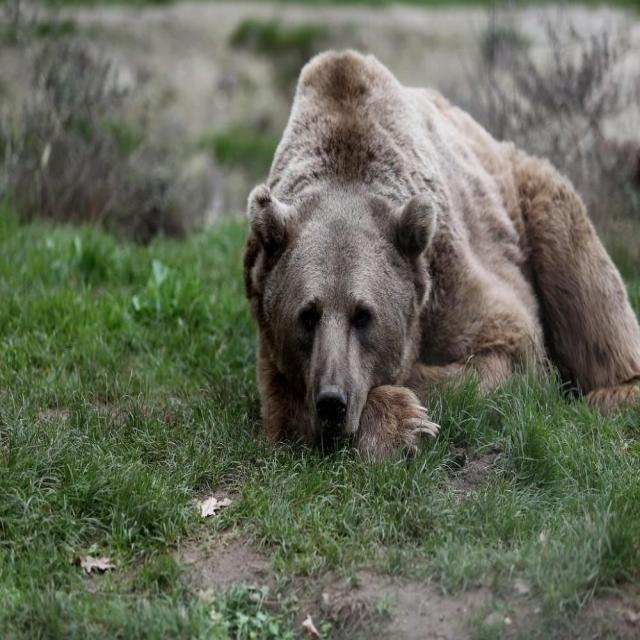Bear: (241, 49, 640, 460)
